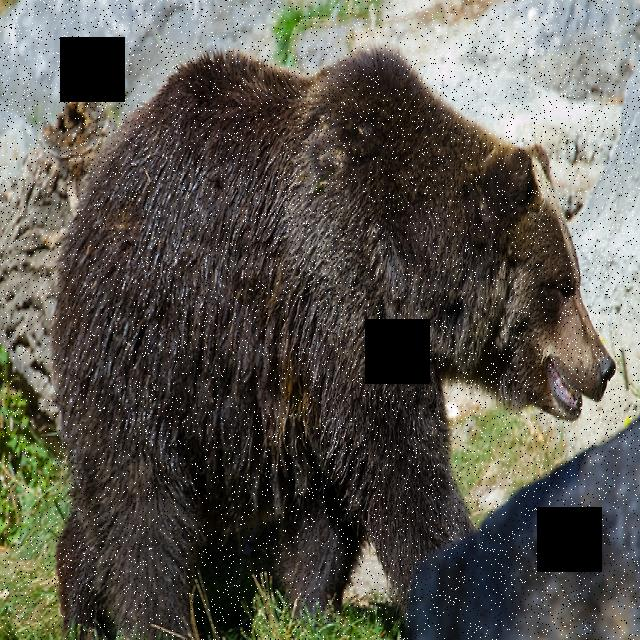Bear: (40, 45, 619, 640)
